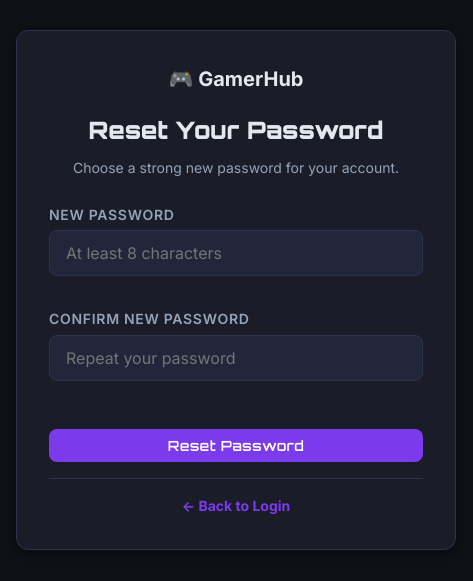
Test: ResetPasswordPage — validation › shows confirm-required error when confirm field is empty
The image size is (473, 581).
Type "Password123!" into the password field labelled "New Password".
click(236, 253); type("Password123!")  # box [49,230,423,276]
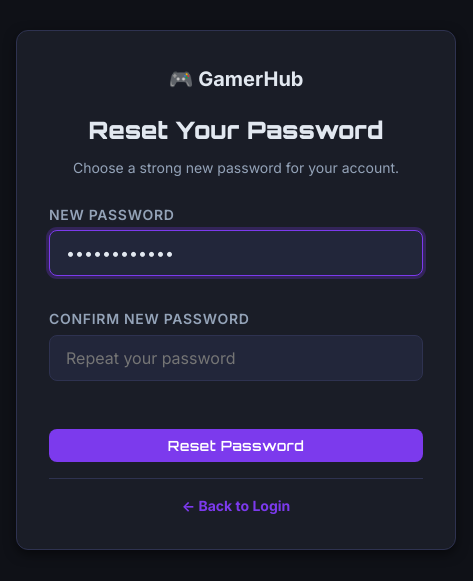
Click the button "Reset Password".
click(236, 445)  # box [49,429,423,462]
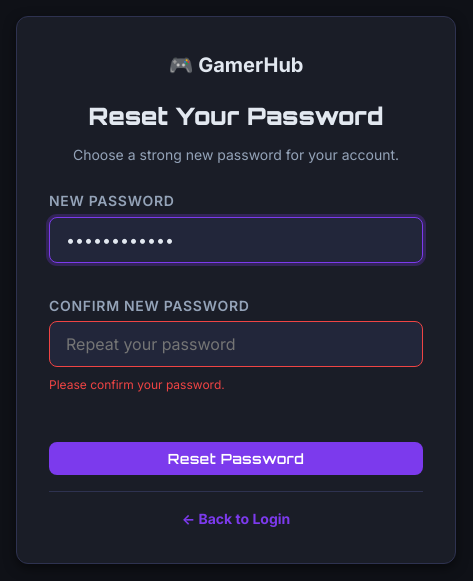
Result: the text "Please confirm your password." is shown at [49,377,225,392]
